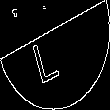L_N: (38, 26, 72, 84)
